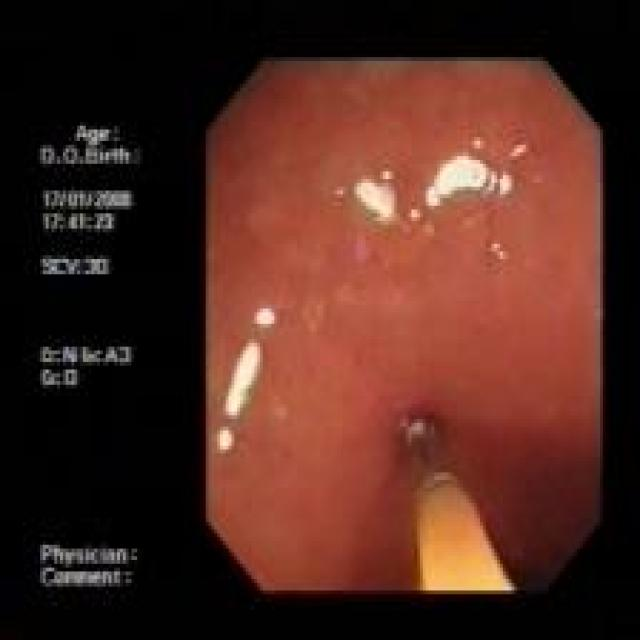color misalignment: (38, 116, 150, 591)
instrument: (401, 410, 513, 590)
specularity: (423, 149, 518, 216), (222, 336, 262, 420), (351, 173, 404, 233), (210, 424, 248, 467), (245, 301, 284, 336)
